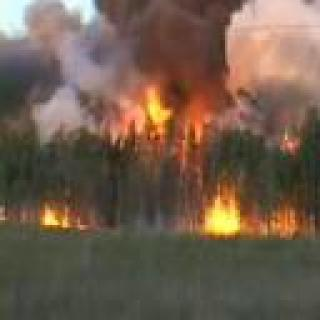fire: (137, 73, 170, 129), (205, 182, 241, 230), (262, 206, 300, 241), (38, 196, 76, 228)
